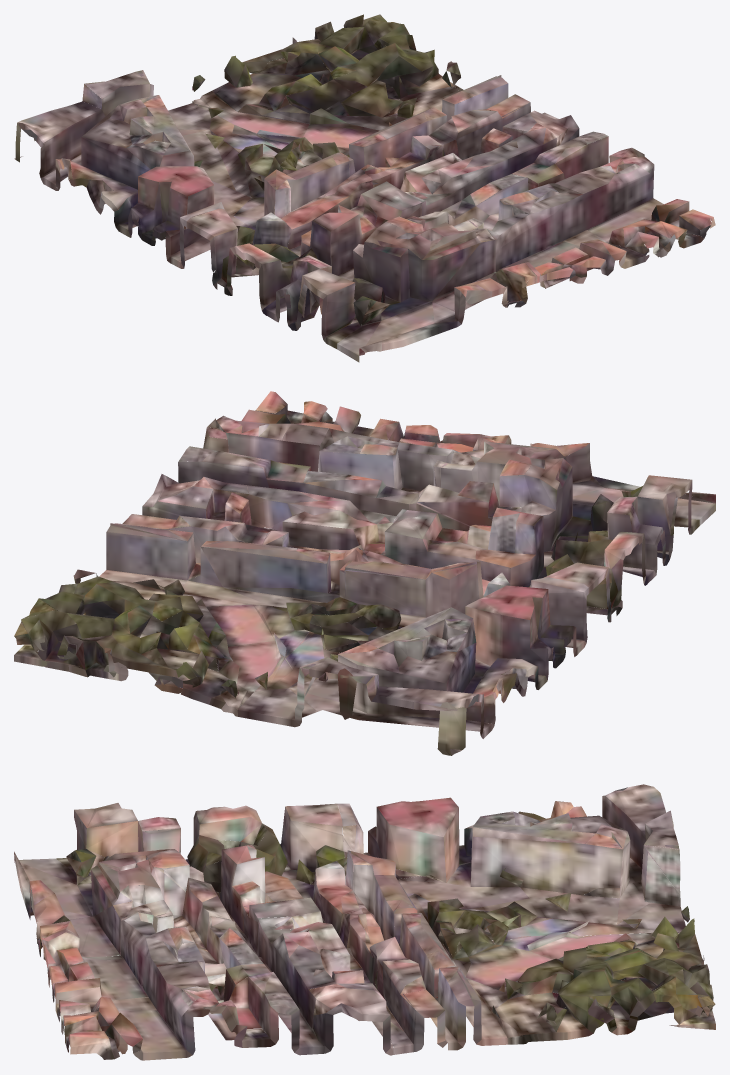
3 renders of one model, top to bottom at view 1: azimuth 30°, elevation 25°; view 2: azimuth 150°, elevation 25°; view 3: azimuth 270°, elevation 25°, orthographic. The views are drawn at different scales.
Parts seen in each view (by area): view 1: Mesh_0; view 2: Mesh_0; view 3: Mesh_0.
Part boxes in pixels (<box>): Mesh_0: <box>14,14,715,362</box>; Mesh_0: <box>14,391,715,755</box>; Mesh_0: <box>14,784,715,1060</box>.
Size of the model in its own units: 266 by 42.15 by 330.
2 materials, 2 textured.
